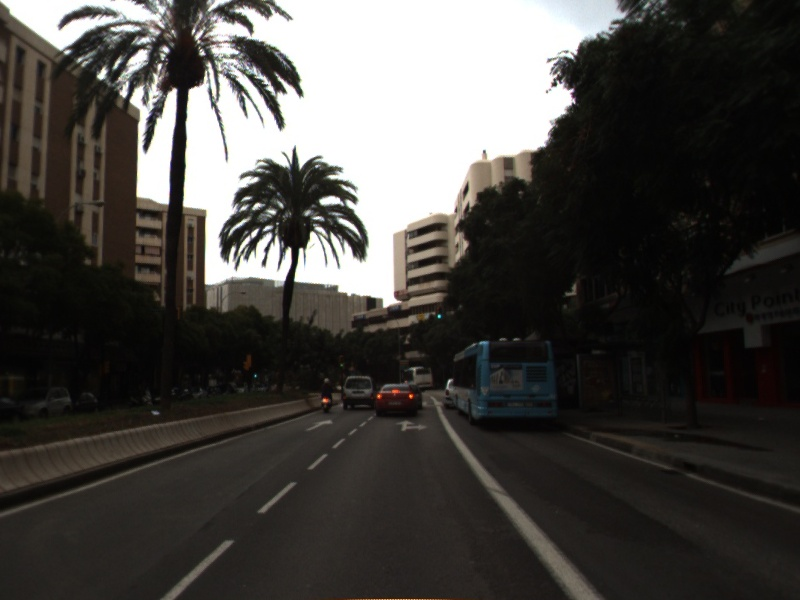STRAIGHT: (304, 417, 335, 432)
STRAIGHT_RIGHT: (394, 418, 430, 433)
